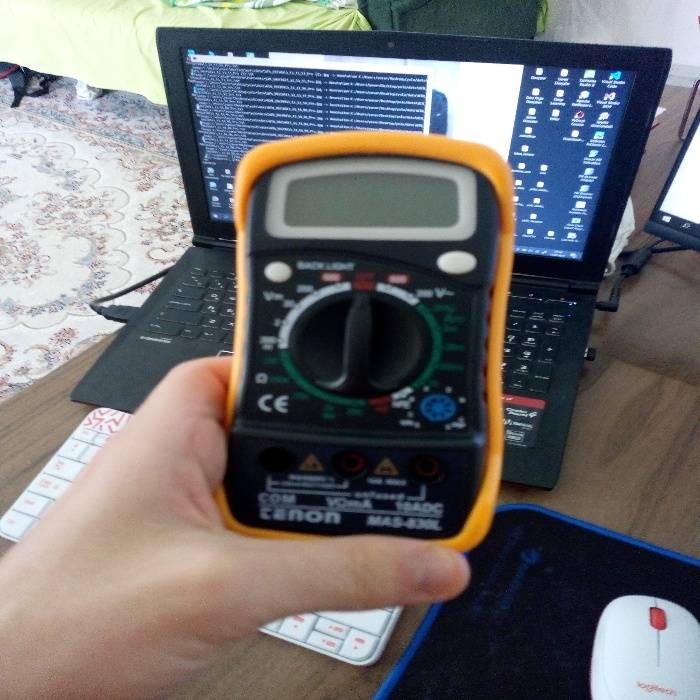multimetre: (206, 110, 511, 557)
